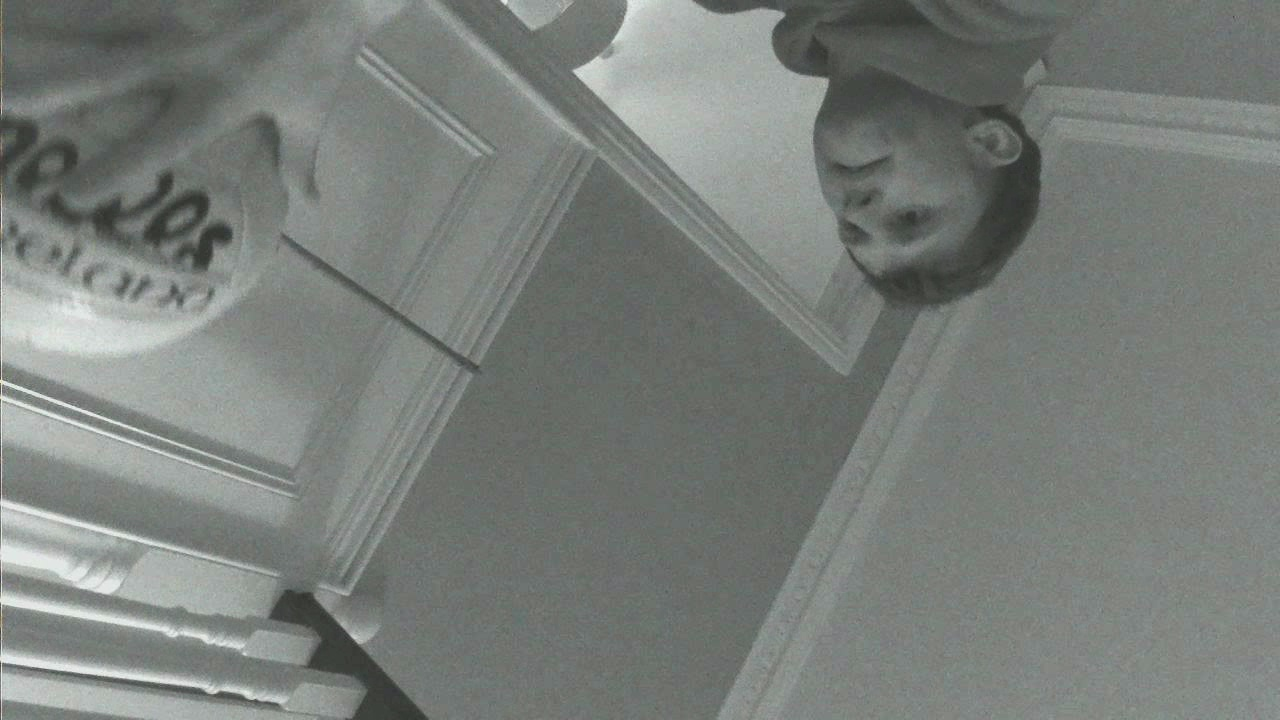Football-Spotter: (0, 99, 283, 355)
